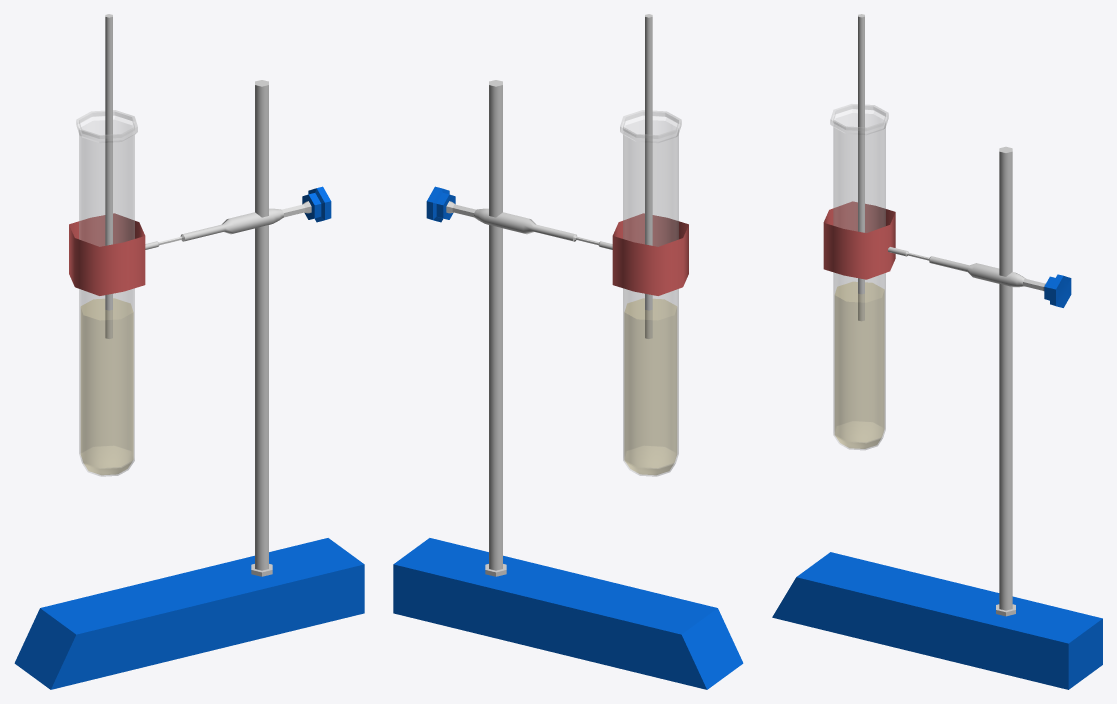
The picture shows the model from 3 angles, left to right: view 1: azimuth 30°, elevation 25°; view 2: azimuth 150°, elevation 25°; view 3: azimuth 330°, elevation 25°; orthographic projection. The views are drawn at different scales.
Visible parts, largest first — view 1: pCube1, polySurface3, polySurface4, pCylinder1, polySurface2, pCylinder2, pCylinder3; view 2: pCube1, polySurface3, polySurface4, pCylinder1, polySurface2, pCylinder2, pCylinder3; view 3: pCube1, polySurface3, polySurface4, pCylinder1, polySurface2, pCylinder2, pCylinder3.
Boxes of the visible parts, bbox=[...] form: pCube1: bbox=[14, 538, 364, 689]; polySurface3: bbox=[76, 110, 137, 476]; polySurface4: bbox=[81, 298, 133, 474]; pCylinder1: bbox=[251, 80, 272, 576]; polySurface2: bbox=[69, 213, 145, 295]; pCylinder2: bbox=[145, 186, 331, 249]; pCylinder3: bbox=[105, 14, 112, 338]; pCube1: bbox=[393, 538, 743, 689]; polySurface3: bbox=[620, 110, 681, 476]; polySurface4: bbox=[624, 298, 676, 474]; pCylinder1: bbox=[485, 80, 506, 576]; polySurface2: bbox=[612, 213, 688, 295]; pCylinder2: bbox=[426, 186, 612, 249]; pCylinder3: bbox=[645, 14, 652, 338]; pCube1: bbox=[772, 552, 1102, 689]; polySurface3: bbox=[830, 104, 888, 449]; polySurface4: bbox=[835, 282, 884, 448]; pCylinder1: bbox=[996, 146, 1015, 616]; polySurface2: bbox=[823, 201, 895, 279]; pCylinder2: bbox=[888, 247, 1071, 307]; pCylinder3: bbox=[858, 14, 864, 321].
Bounding box in the file's own units: 519 × 1015 × 104.
